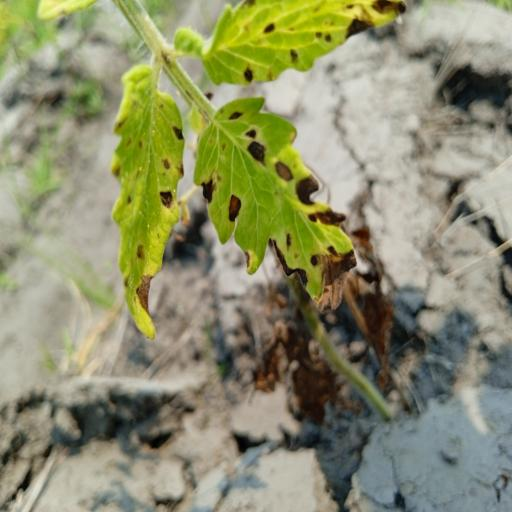Tomato_Brown_Spots: (192, 92, 364, 312), (112, 56, 190, 342), (200, 0, 415, 89)
